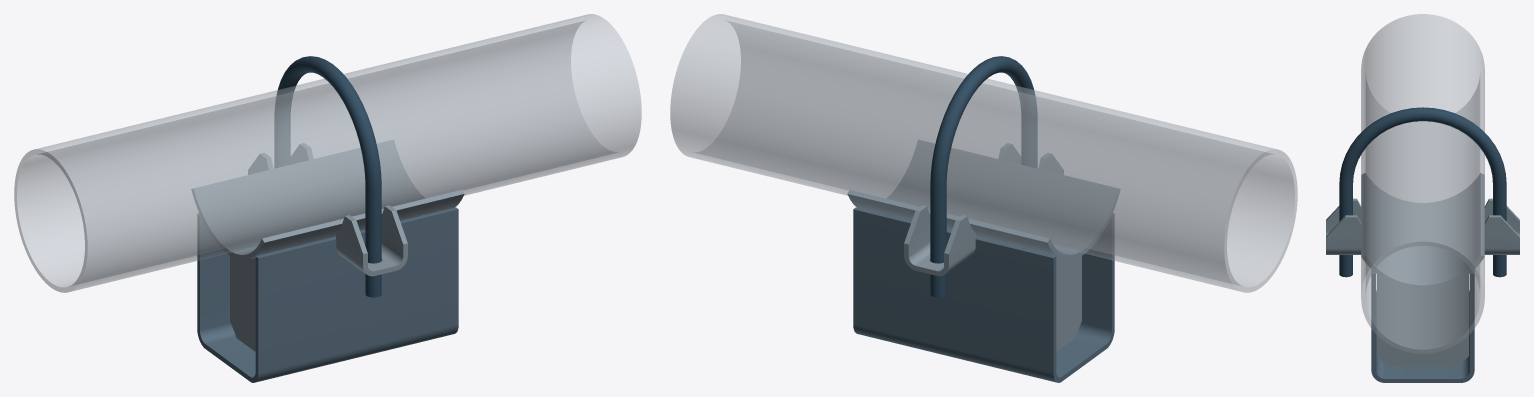
The model's file is TS-626.00.000-opora-dn108-H100-L170.glb.
3 renders of one model, left to right at view 1: azimuth 30°, elevation 25°; view 2: azimuth 150°, elevation 25°; view 3: azimuth 270°, elevation 25°, orthographic. The views are drawn at different scales.
Parts seen in each view (by area): view 1: truba, skoba_0, podushka_3, homut_0, ushko_5, rebro4_1, ushko_4; view 2: truba, skoba_0, podushka_3, homut_0, ushko_4, rebro4_1, ushko_5; view 3: truba, podushka_3, rebro4_2, homut_0, skoba_0, ushko_4, ushko_5.
Part boxes in pixels (x1=…): truba: x1=14, y1=14, x2=641, y2=292; skoba_0: x1=197, y1=207, x2=458, y2=382; podushka_3: x1=191, y1=140, x2=464, y2=260; homut_0: x1=274, y1=56, x2=381, y2=297; ushko_5: x1=336, y1=205, x2=407, y2=276; rebro4_1: x1=230, y1=248, x2=288, y2=351; ushko_4: x1=248, y1=143, x2=313, y2=174; truba: x1=670, y1=14, x2=1297, y2=292; skoba_0: x1=853, y1=207, x2=1114, y2=382; podushka_3: x1=847, y1=140, x2=1120, y2=260; homut_0: x1=930, y1=56, x2=1037, y2=297; ushko_4: x1=904, y1=205, x2=975, y2=276; rebro4_1: x1=1023, y1=248, x2=1081, y2=351; ushko_5: x1=998, y1=143, x2=1063, y2=174; truba: x1=1361, y1=14, x2=1484, y2=353; podushka_3: x1=1361, y1=173, x2=1484, y2=289; rebro4_2: x1=1377, y1=274, x2=1468, y2=366; homut_0: x1=1339, y1=107, x2=1506, y2=277; skoba_0: x1=1371, y1=270, x2=1474, y2=382; ushko_4: x1=1484, y1=198, x2=1519, y2=254; ushko_5: x1=1326, y1=198, x2=1361, y2=254.
Size of the model in its own units: 470 by 225 by 169.
